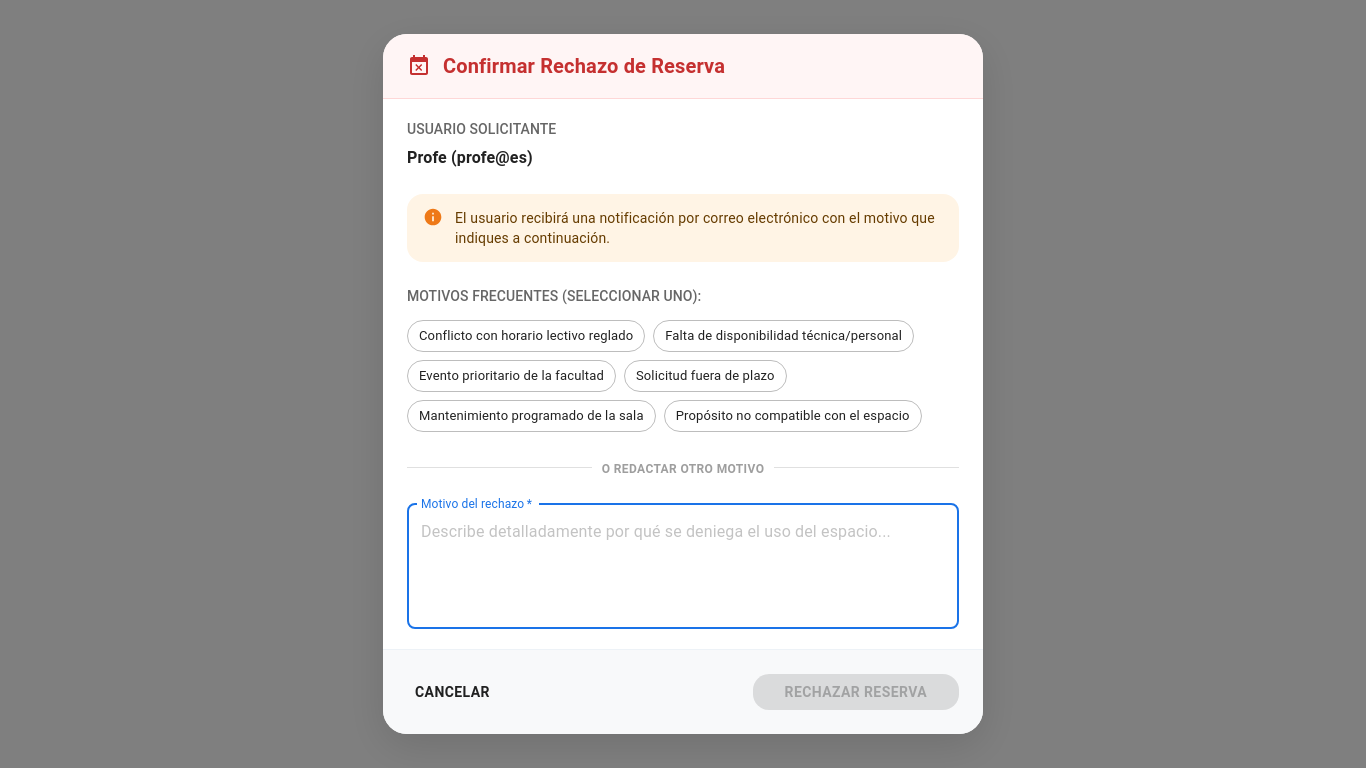
it: RejectReservationDialog › debe requerir un motivo antes de habilitar el botón
Expected: the button "Rechazar Reserva" is disabled, [753,674,959,710]
Replace the text in the text box labelled "Motivo del rechazo *" with "Falta de disponibilidad": coordinates (683, 566) [421,520,945,612]
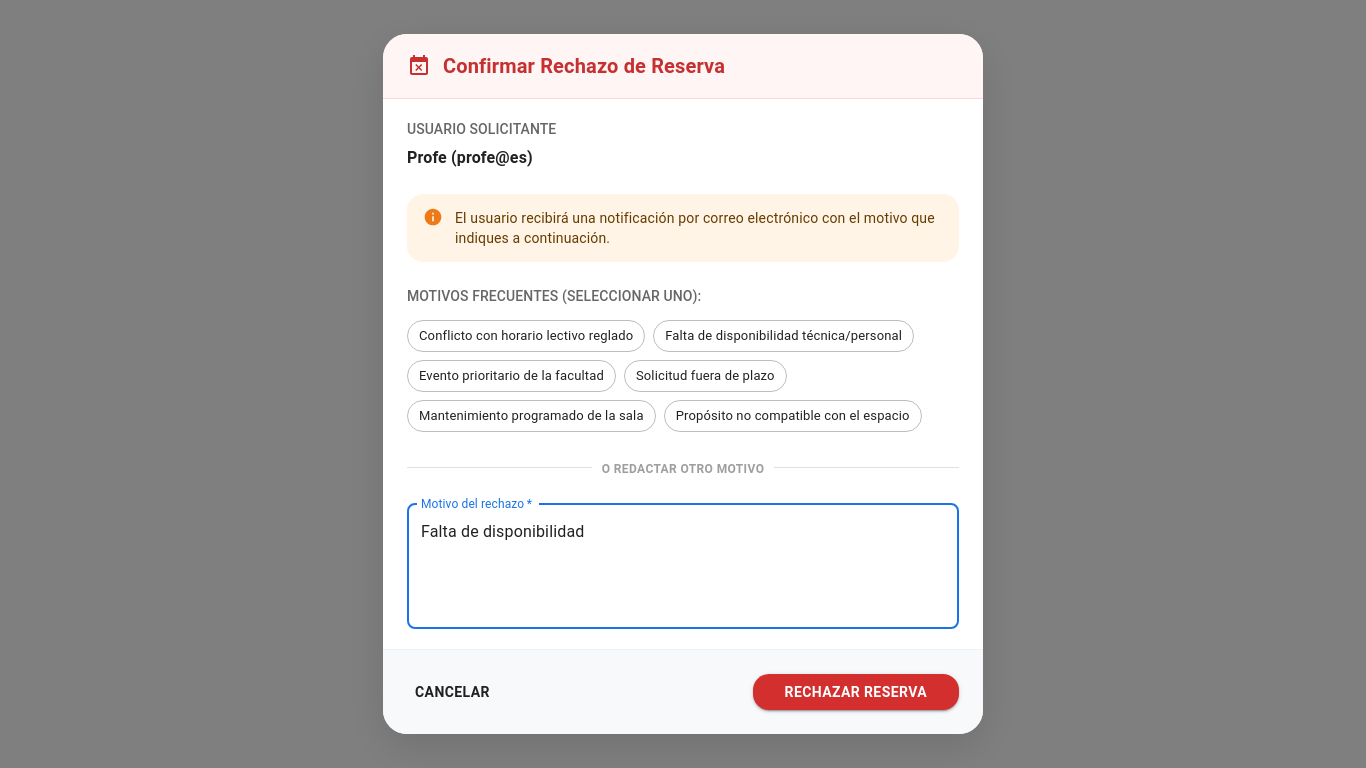
Expected: the button "Rechazar Reserva" is enabled, [753,674,959,710]
